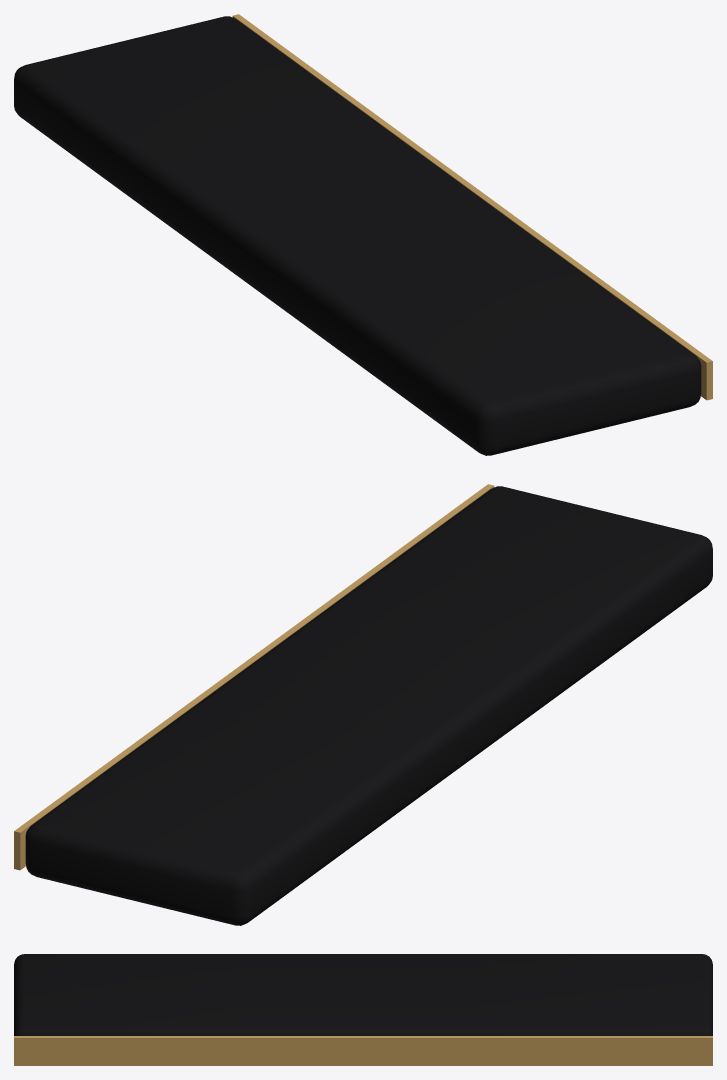
File: standee_base.glb
3 renders of one model, top to bottom at view 1: azimuth 30°, elevation 25°; view 2: azimuth 150°, elevation 25°; view 3: azimuth 270°, elevation 25°, orthographic. The views are drawn at different scales.
Parts seen in each view (by area): view 1: Foot_LOD0, Edge_LOD0; view 2: Foot_LOD0, Edge_LOD0; view 3: Foot_LOD0, Edge_LOD0.
Boxes of the visible parts, x1=… form: Foot_LOD0: x1=14, y1=16, x2=701, y2=455; Edge_LOD0: x1=232, y1=14, x2=712, y2=400; Foot_LOD0: x1=25, y1=486, x2=712, y2=925; Edge_LOD0: x1=14, y1=484, x2=494, y2=870; Foot_LOD0: x1=14, y1=954, x2=712, y2=1035; Edge_LOD0: x1=14, y1=1036, x2=712, y2=1065.
Size of the model in its own units: 0.37 by 0.08 by 1.32.
